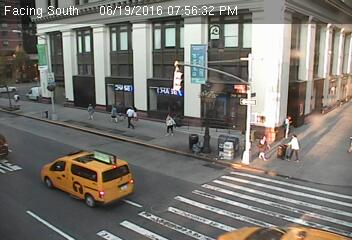neg: (254, 112, 266, 127), (306, 94, 317, 109), (333, 84, 341, 95)
pos: (283, 131, 305, 160), (252, 132, 273, 160), (123, 105, 141, 129), (161, 112, 178, 134), (106, 100, 123, 122), (82, 100, 98, 121), (282, 115, 293, 130), (11, 90, 22, 103)
